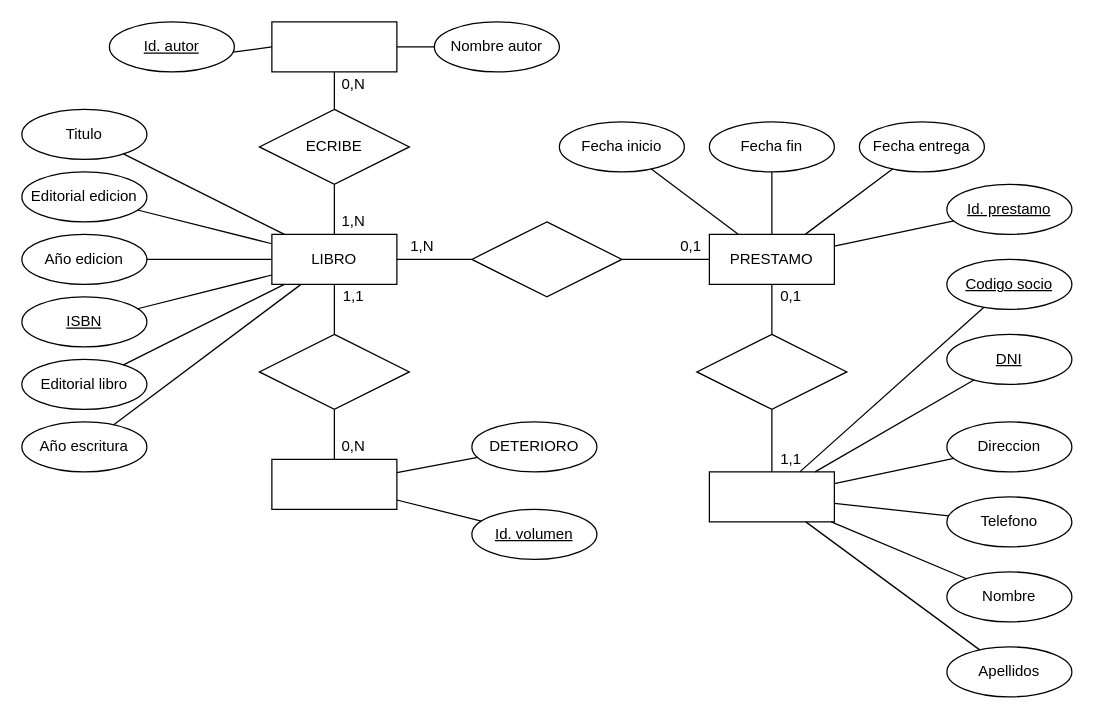
Some shapes in this 1094 by 719 pixel diagram are drawn without their labels. The shapes that lost their labels are listed below. From the top down, each one's centre as x and y in pixels, then its label:
At (x=334, y=46): "AUTOR".
At (x=546, y=259): "ES PRESTADO".
At (x=333, y=371): "TIENE".
At (x=771, y=371): "SOLICITA".
At (x=334, y=483): "VOLUMEN".
At (x=771, y=496): "SOCIO".
